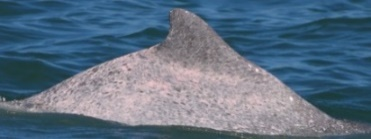fin: (2, 6, 365, 139)
